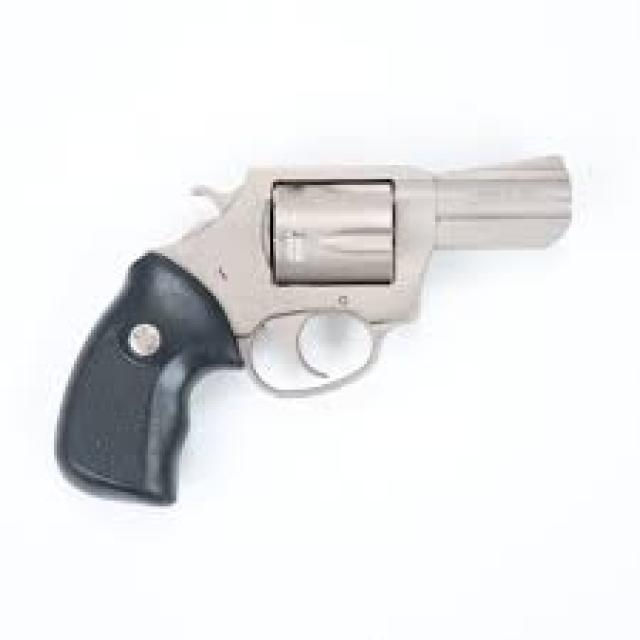Gun: (31, 99, 593, 485)
